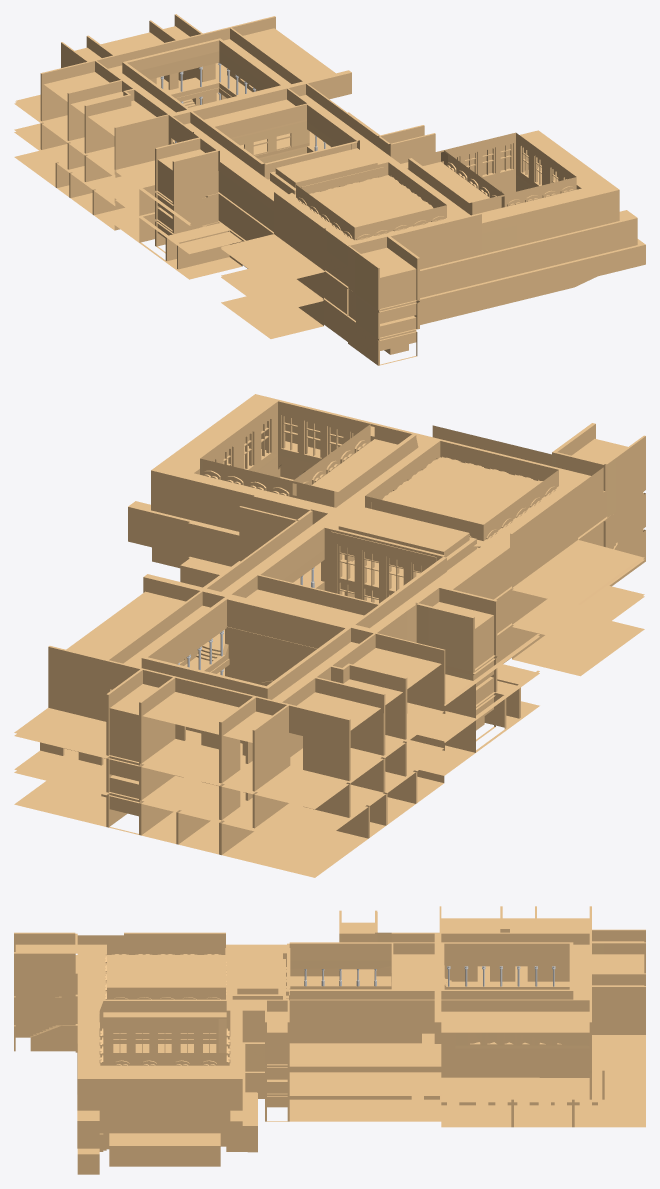
The model's file is modeloclasutro.fbx.
The picture shows the model from 3 angles, top to bottom: view 1: azimuth 30°, elevation 25°; view 2: azimuth 150°, elevation 25°; view 3: azimuth 270°, elevation 25°; orthographic projection. The views are drawn at different scales.
Parts seen in each view (by area): view 1: claustro; view 2: claustro; view 3: claustro.
Boxes of the visible parts, bbox=[...] form: claustro: bbox=[14, 14, 645, 365]; claustro: bbox=[14, 394, 645, 877]; claustro: bbox=[14, 906, 645, 1174].
Bounding box in the file's own units: 12901 × 3697 × 19719.
